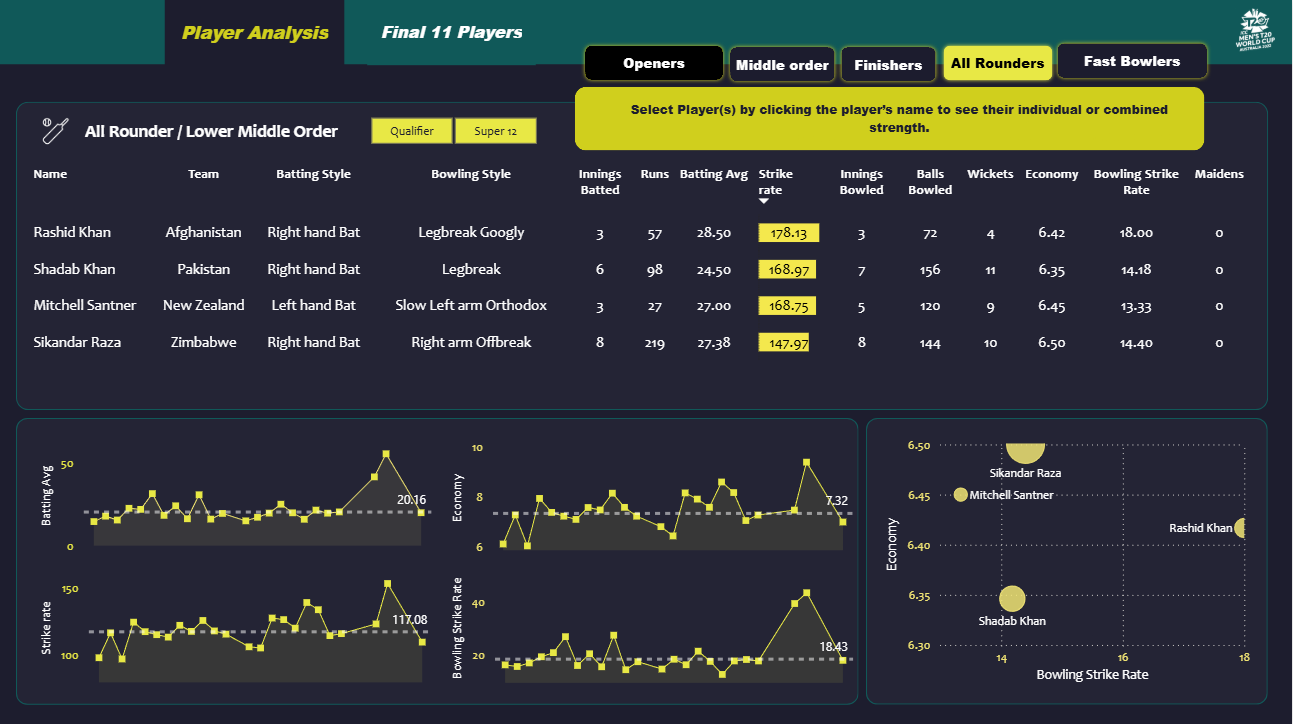

Layout of this report page (visuals, bound fields, positions):
{"tool":"powerbi","page":{"name":"All Rounders ","canvas":[1280,720],"ordinal":3},"visuals":[{"type":"shape","box":[0,66,1280,654],"z":0},{"type":"card","fields":{"Values":["Key_Measures.Strike rate"]},"box":[867,89,93,60],"z":0,"group":"g2"},{"type":"shape","box":[83.7,116.3,260,31.2],"z":0,"group":"g1"},{"type":"card","fields":{"Values":["Key_Measures.Bat Avg"]},"box":[768,89,92,60],"z":1000,"group":"g2"},{"type":"image","box":[37.5,113.8,44,36],"z":1000,"group":"g1"},{"type":"shape","box":[20,414.4,832.2,283.3],"z":1000},{"type":"actionButton","box":[721.5,44.3,111.4,41.8],"z":2000},{"type":"card","fields":{"Values":["Key_Measures.Bowling Strike Rate"]},"box":[1073,89,100,60],"z":2000,"group":"g2"},{"type":"actionButton","box":[577.2,43,144.3,41.8],"z":3000},{"type":"card","fields":{"Values":["Key_Measures.Economy"]},"box":[966,89,101,60],"z":3000,"group":"g2"},{"type":"actionButton","box":[830.4,44.3,101.3,41.8],"z":4000},{"type":"actionButton","box":[932,42.6,115,42],"z":5000},{"type":"actionButton","box":[1044.8,41,155.6,42.2],"z":6000},{"type":"image","box":[1220,3,48,59],"z":7000},{"type":"shape","box":[20,102.2,1236.7,304.4],"z":9000},{"type":"group","id":"g1","title":"Group 2","box":[37.5,113.8,306.2,35],"z":10000},{"type":"slicer","fields":{"Values":["dim_match_summary.stage"]},"box":[343.8,111,213.5,38.6],"z":11000},{"type":"tableEx","fields":{"Values":["dim_player.name","Min(dim_player.team)","Min(dim_player.Batting Style)","Min(dim_player.Bowling Style)","Key_Measures.Total Innings Batted","Key_Measures.Total Runs","Key_Measures.Bat Avg","Key_Measures.Strike rate","Key_Measures.Total Innings Bowled","Key_Measures.Balls Bowled","Key_Measures.wickets","Key_Measures.Economy"]},"box":[26,151,1231,255],"z":12000},{"type":"shape","box":[572,88,622,63],"z":13000},{"type":"shape","box":[591,103,173,34],"z":14000},{"type":"group","id":"g2","title":"Combined Perfoamce Metrices","box":[768,89,405,60],"z":15000},{"type":"scatterChart","fields":{"Category":["dim_player.name"],"X":["Key_Measures.Bowling Strike Rate"],"Y":["Key_Measures.Economy"],"Size":["Key_Measures.Total Runs"]},"box":[874.4,427,370,254],"z":16000},{"type":"actionButton","title":"Button Player Ana selected","box":[166.5,0,177.3,66.4],"z":17000},{"type":"actionButton","title":"Button Player Ana selected","box":[366.8,0,166.5,66.4],"z":18000},{"type":"shape","box":[612,100,560,36],"z":19000},{"type":"shape","box":[859.5,414.3,396.7,283.1],"z":20000},{"type":"areaChart","fields":{"Category":["dim_match_summary.Match_Date.Variation.Date Hierarchy.Day"],"Y":["Key_Measures.Economy"]},"box":[446,430,406,126],"z":21000},{"type":"areaChart","fields":{"Category":["dim_match_summary.Match_Date.Variation.Date Hierarchy.Day"],"Y":["Key_Measures.Bowling Strike Rate"]},"box":[446,556,406,126],"z":22000},{"type":"areaChart","fields":{"Category":["dim_match_summary.Match_Date.Variation.Date Hierarchy.Day"],"Y":["Key_Measures.Bat Avg"]},"box":[40,428.9,395.6,126.7],"z":23000},{"type":"areaChart","fields":{"Category":["dim_match_summary.Match_Date.Variation.Date Hierarchy.Day"],"Y":["Key_Measures.Strike rate"]},"box":[40,555.6,396.7,125.6],"z":24000}]}

Visuals, with their boxes in screenshot pixels (x1, y1, x2, y2), scaled from the page's 1280x720 canvas onto the 1293x724 screenshot:
shape: bbox(0, 66, 1292, 723)
card - Key_Measures.Strike rate: bbox(876, 89, 970, 150)
shape: bbox(85, 117, 347, 148)
card - Key_Measures.Bat Avg: bbox(776, 89, 869, 150)
image: bbox(38, 114, 82, 151)
shape: bbox(20, 417, 861, 702)
actionButton: bbox(729, 45, 841, 87)
card - Key_Measures.Bowling Strike Rate: bbox(1084, 89, 1185, 150)
actionButton: bbox(583, 43, 729, 85)
card - Key_Measures.Economy: bbox(976, 89, 1078, 150)
actionButton: bbox(839, 45, 941, 87)
actionButton: bbox(941, 43, 1058, 85)
actionButton: bbox(1055, 41, 1213, 84)
image: bbox(1232, 3, 1281, 62)
shape: bbox(20, 103, 1269, 409)
"Group 2" group: bbox(38, 114, 347, 150)
slicer - dim_match_summary.stage: bbox(347, 112, 563, 150)
tableEx - dim_player.name x Min(dim_player.team): bbox(26, 152, 1270, 408)
shape: bbox(578, 88, 1206, 152)
shape: bbox(597, 104, 772, 138)
"Combined Perfoamce Metrices" group: bbox(776, 89, 1185, 150)
scatterChart - dim_player.name x Key_Measures.Bowling Strike Rate: bbox(883, 429, 1257, 685)
"Button Player Ana selected" actionButton: bbox(168, 0, 347, 67)
"Button Player Ana selected" actionButton: bbox(371, 0, 539, 67)
shape: bbox(618, 101, 1184, 137)
shape: bbox(868, 417, 1269, 701)
areaChart - dim_match_summary.Match_Date.Variation.Date Hierarchy.Day x Key_Measures.Economy: bbox(451, 432, 861, 559)
areaChart - dim_match_summary.Match_Date.Variation.Date Hierarchy.Day x Key_Measures.Bowling Strike Rate: bbox(451, 559, 861, 686)
areaChart - dim_match_summary.Match_Date.Variation.Date Hierarchy.Day x Key_Measures.Bat Avg: bbox(40, 431, 440, 559)
areaChart - dim_match_summary.Match_Date.Variation.Date Hierarchy.Day x Key_Measures.Strike rate: bbox(40, 559, 441, 685)
